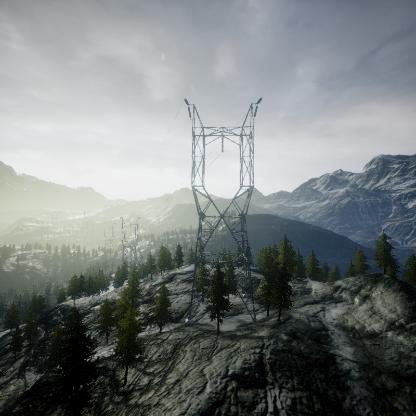tower: (179, 94, 265, 323)
